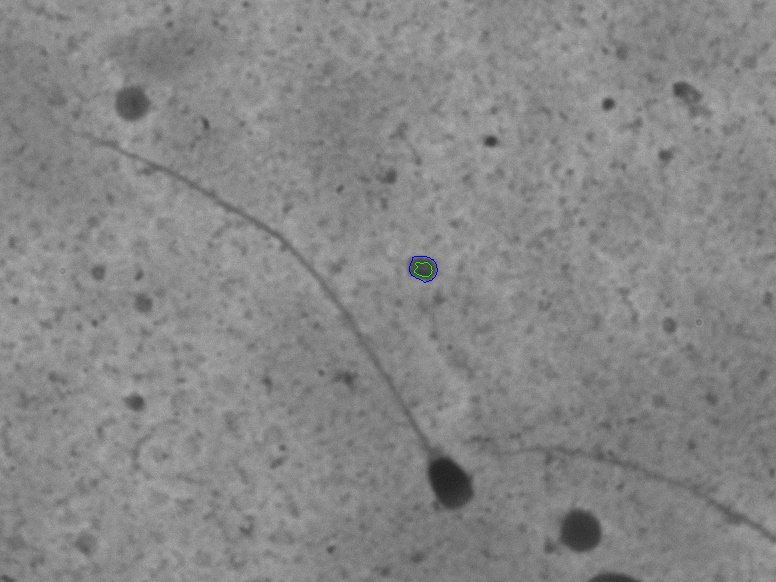Normal: (47, 108, 485, 523)
